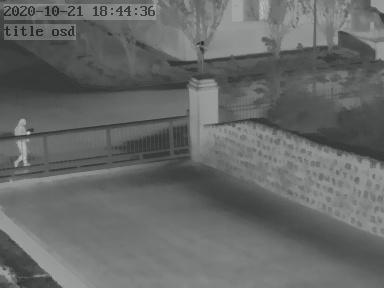person: (14, 117, 30, 166)
